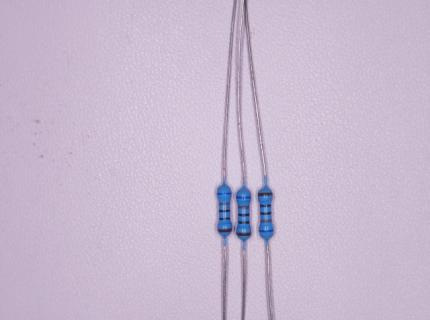Black band: (219, 209, 230, 213), (260, 212, 272, 215), (238, 213, 250, 216), (238, 221, 250, 224), (260, 204, 271, 207), (219, 218, 230, 221)
Blue band: (236, 196, 251, 199), (259, 229, 274, 232), (216, 193, 231, 195)
Brown band: (236, 232, 252, 237), (217, 229, 232, 233), (258, 192, 273, 196)
Grey band: (218, 202, 230, 206), (260, 219, 272, 223), (238, 206, 250, 209)
